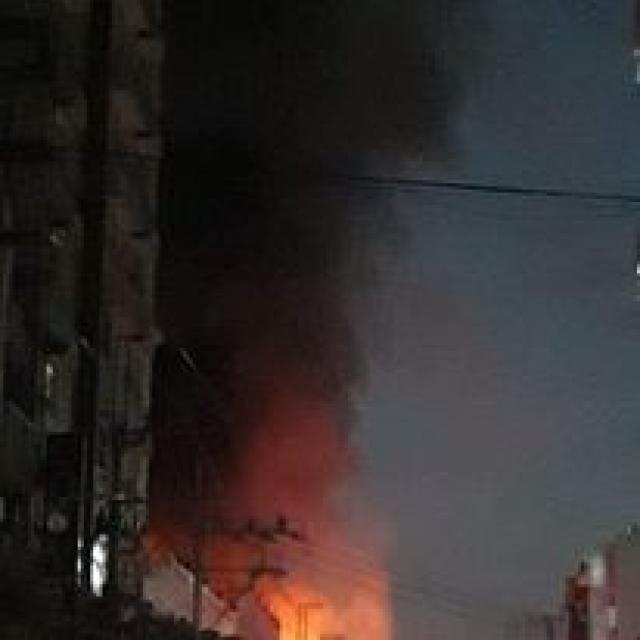Fire: (171, 518, 386, 640)
Smoke: (167, 0, 457, 576)
